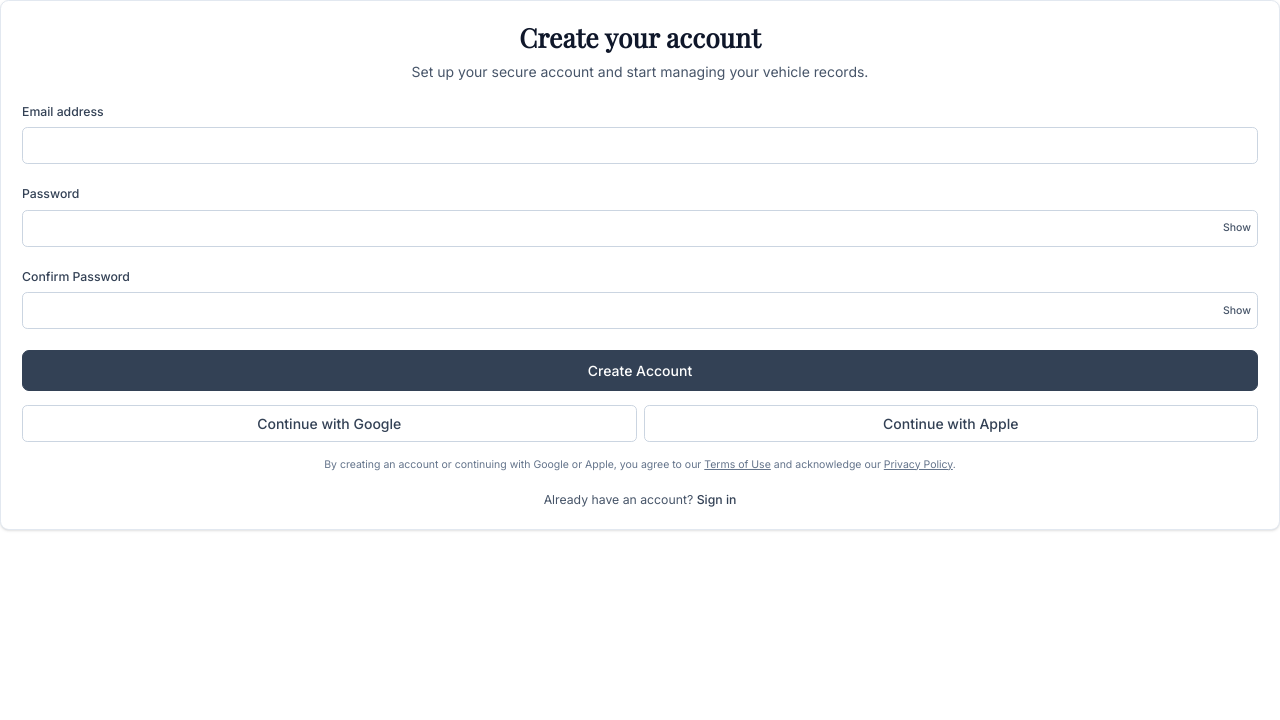
Test: SignUp page › displays a server error when signUp fails
Type "dup@example.com" into the field labelled "Email address" at (640, 146), box [22, 127, 1258, 164]
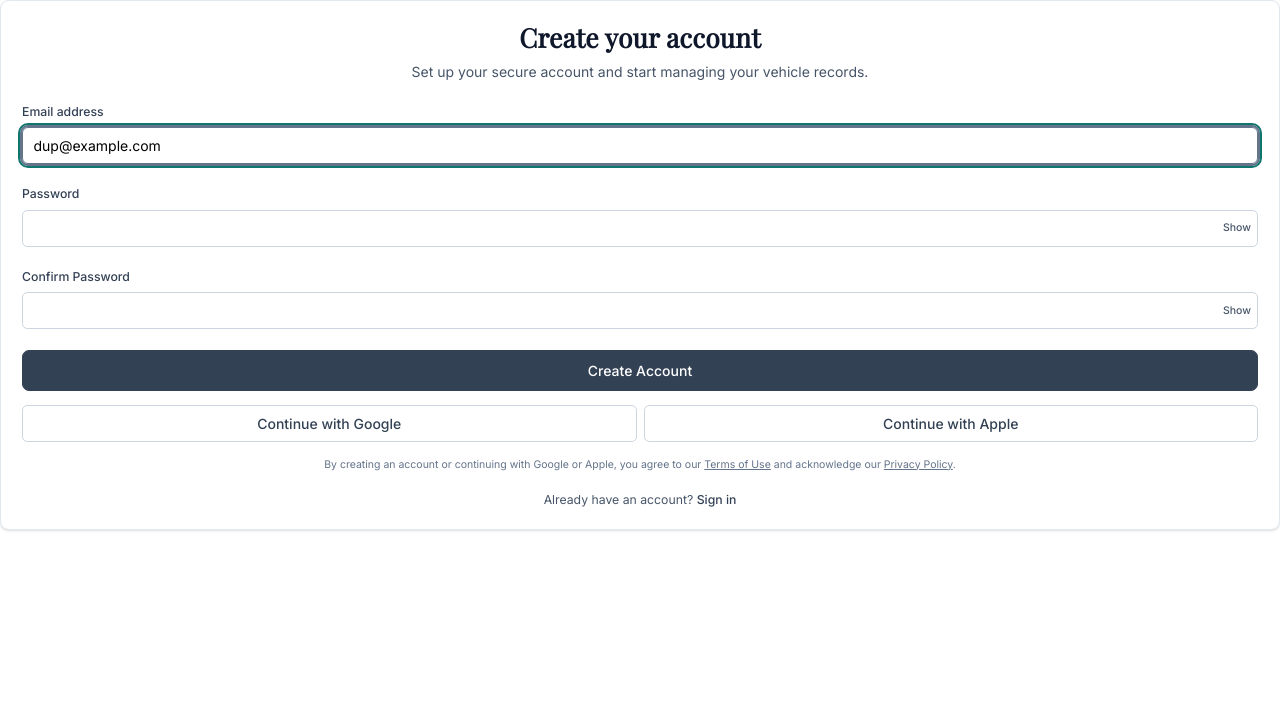
Type "Pass123!" into the password field labelled "Password" at (640, 228), box [22, 210, 1258, 246]
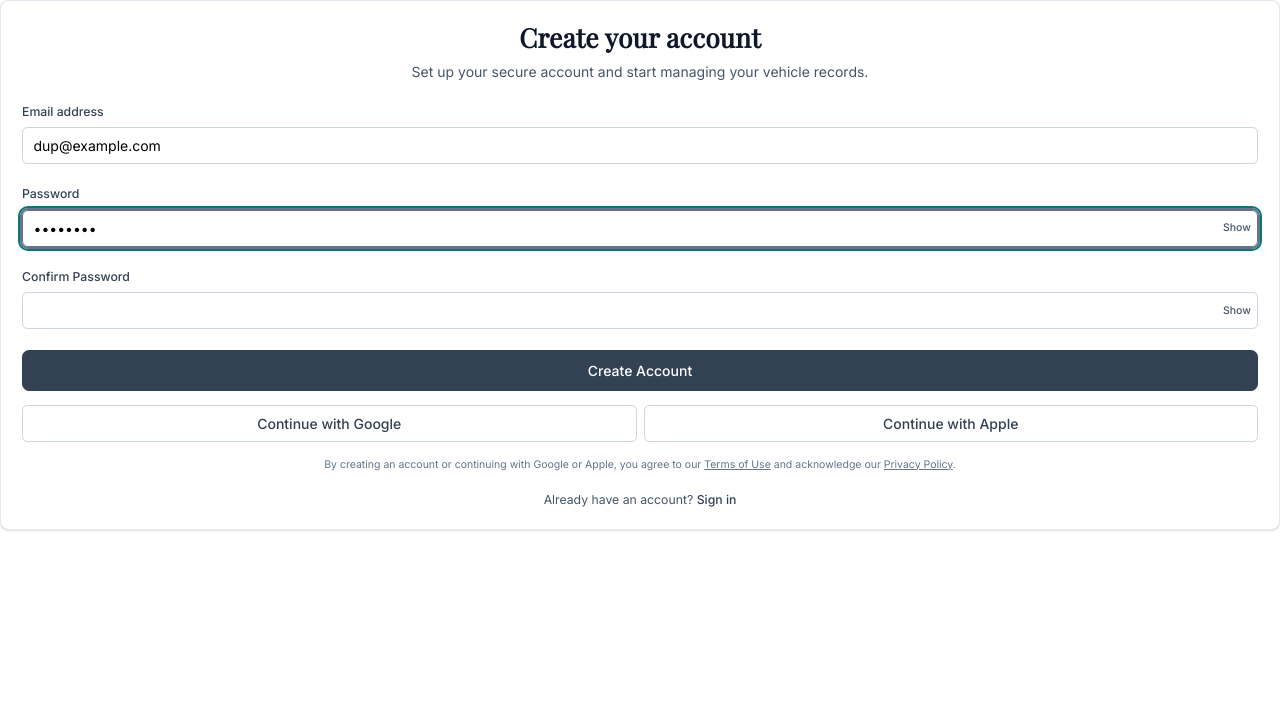
Type "Pass123!" into the password field labelled "Confirm Password" at (640, 310), box [22, 292, 1258, 329]
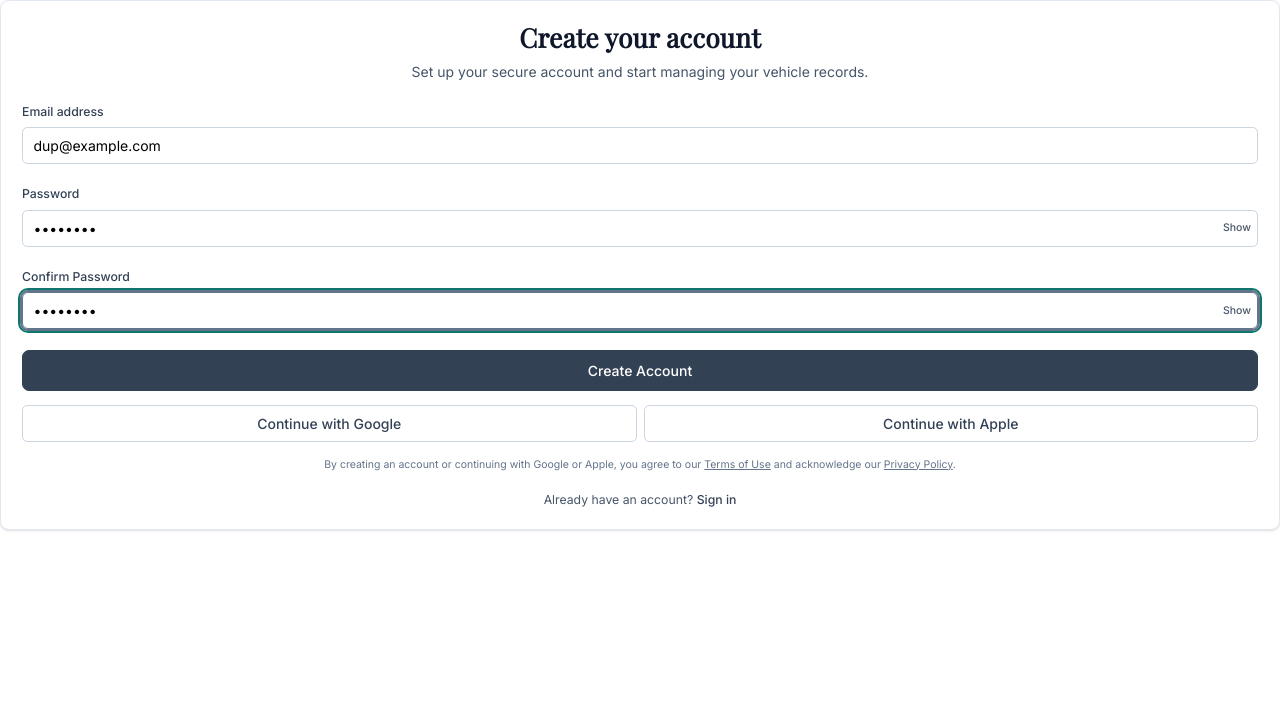
Click the button "Create Account" at (640, 370), box [22, 350, 1258, 390]
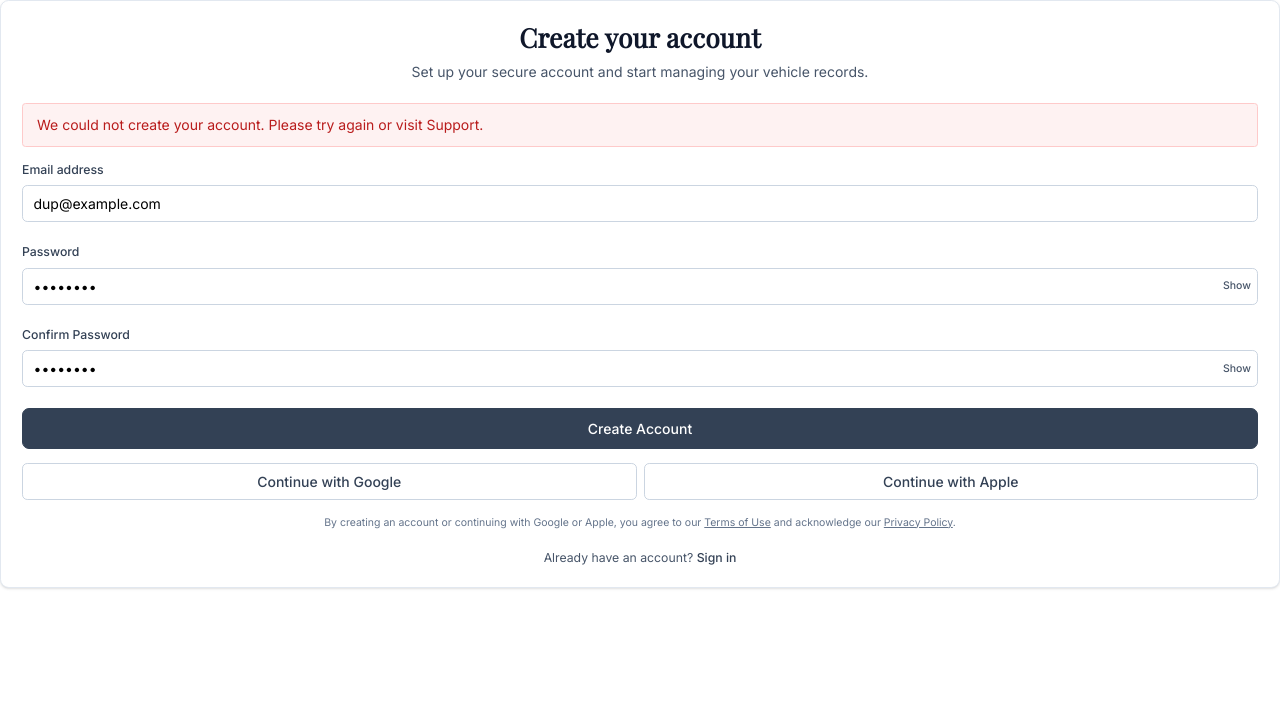
Now the message shows "could not create your account", box [37, 116, 483, 133]
